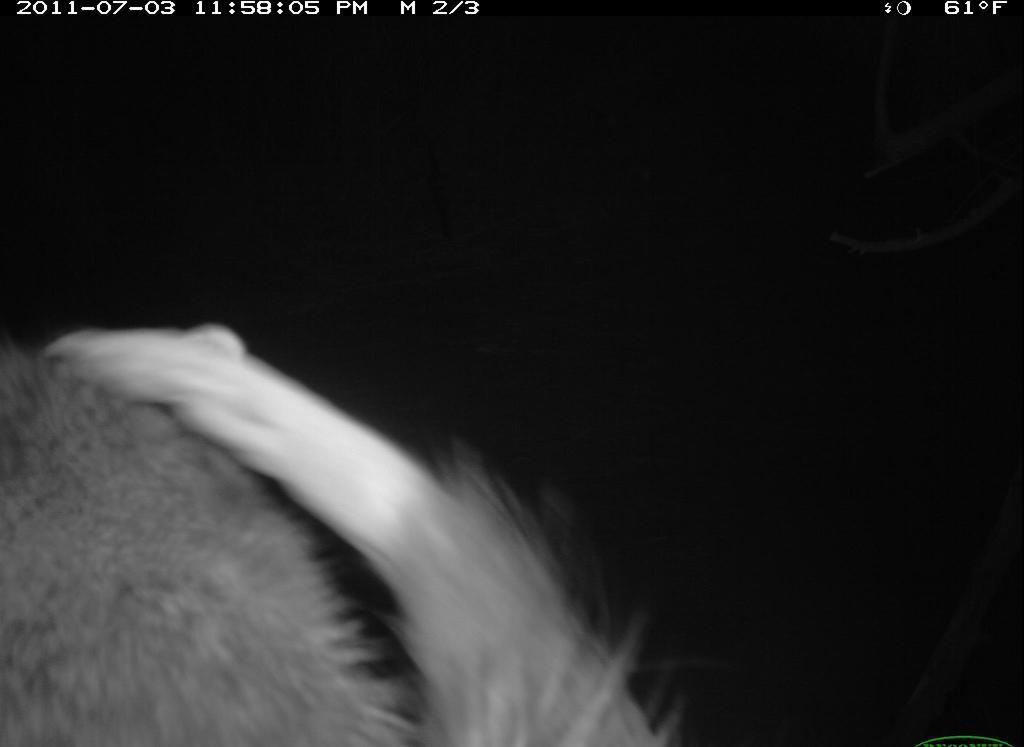raccoon: (7, 294, 688, 747)
